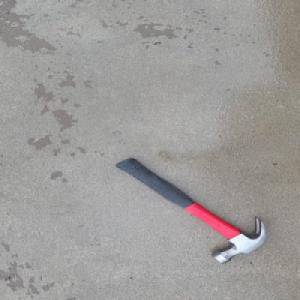Hammer: (110, 156, 264, 263)
